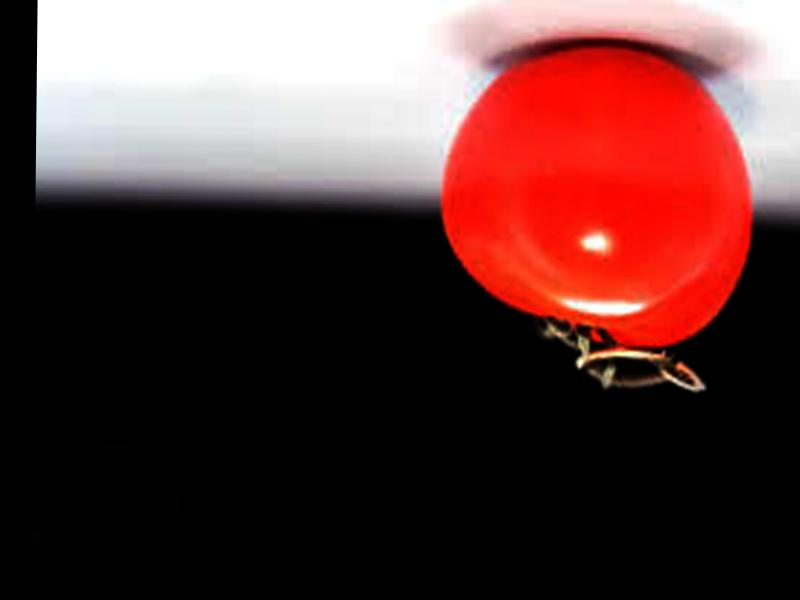Tomato: (437, 42, 755, 350)
